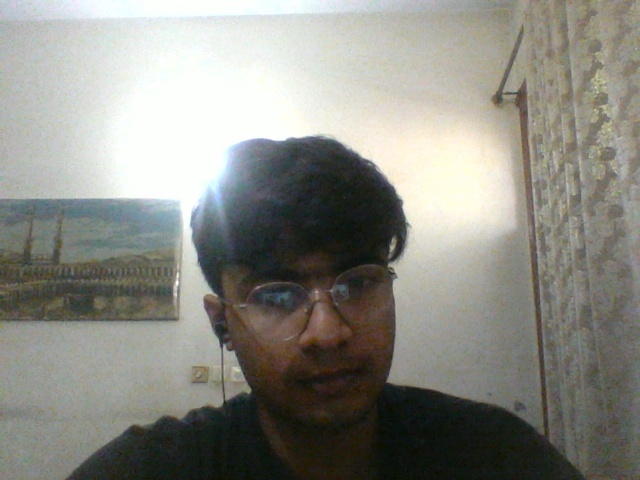neutral: (233, 228, 406, 419)
